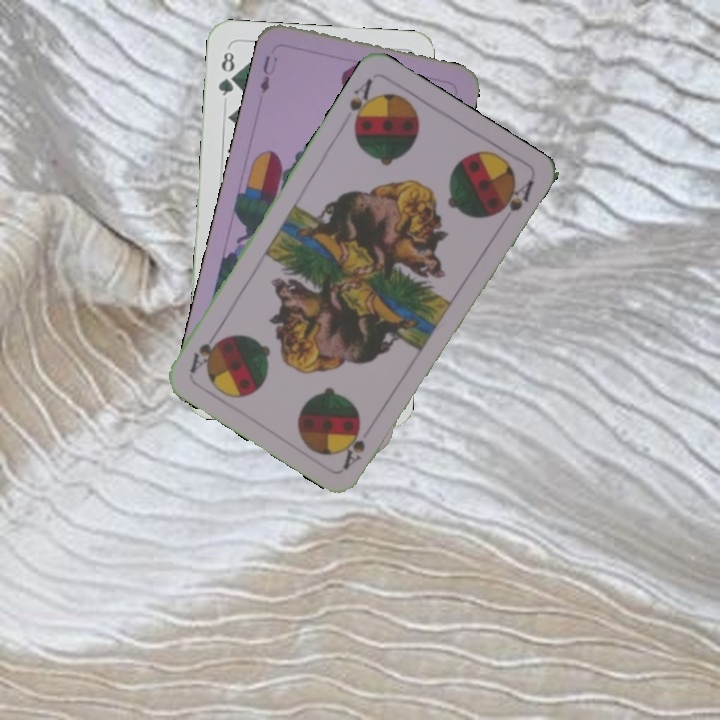EU: (255, 51, 280, 97)
G8: (214, 44, 239, 98)
SA: (345, 74, 378, 133), (339, 424, 368, 472)
